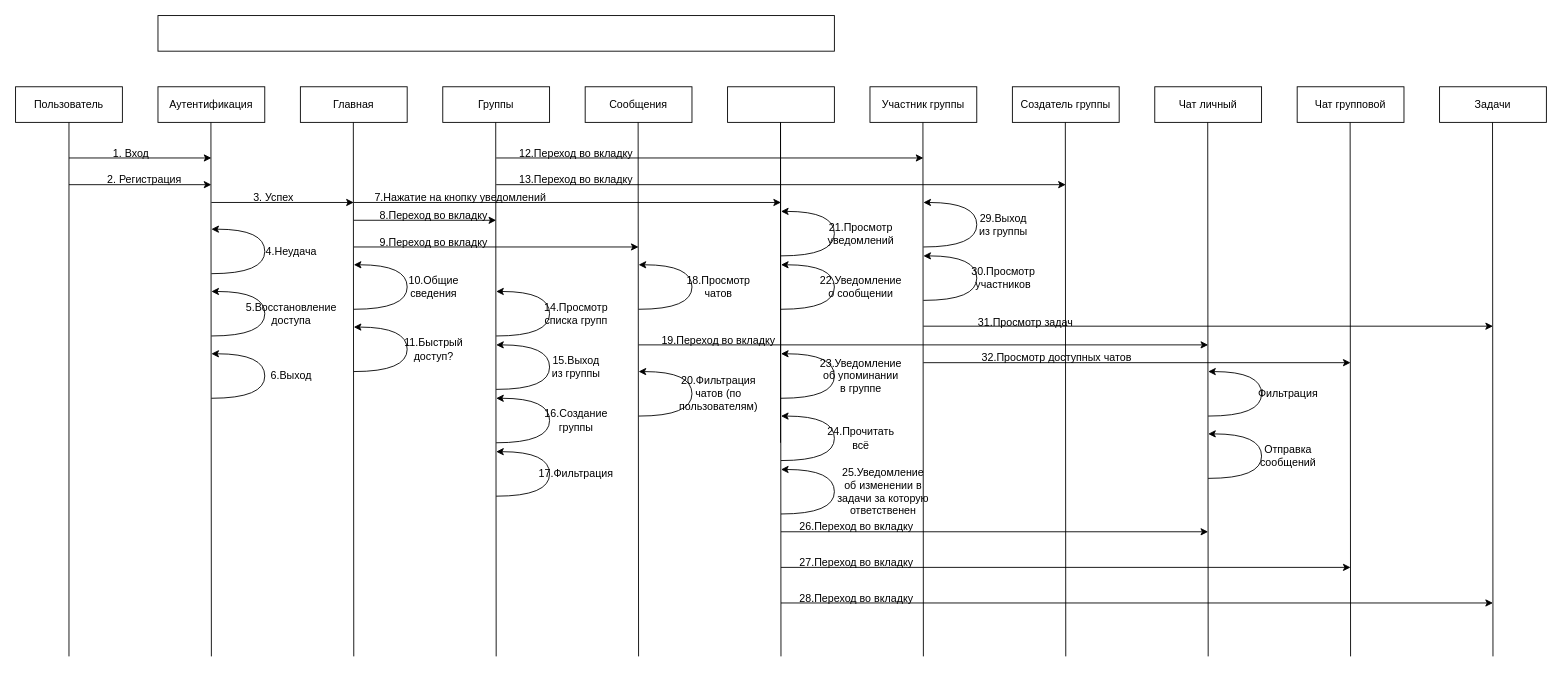
Some shapes in this 1562 by 673 pixel diagram are drawn without their labels. Each missing label, with the centre of its shape:
"Меню" goes at point 495,33.
"Уведомления" goes at point 780,104.
